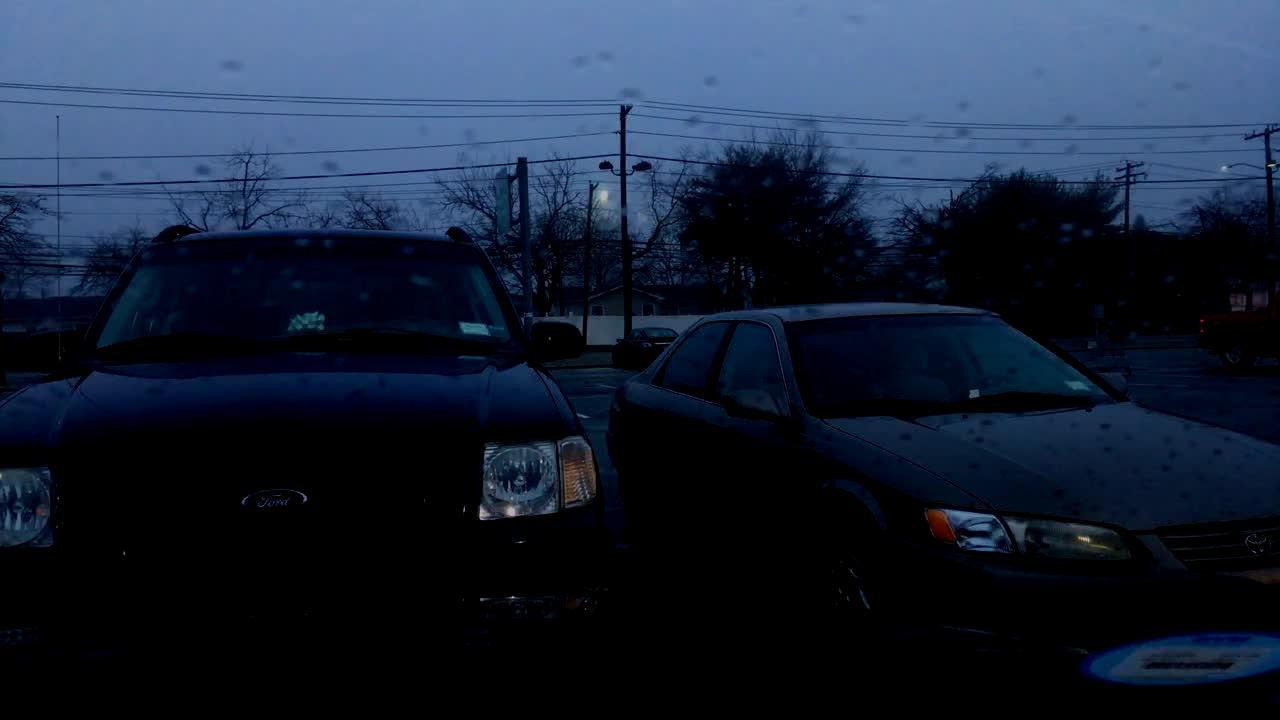ford: (228, 471, 321, 527)
